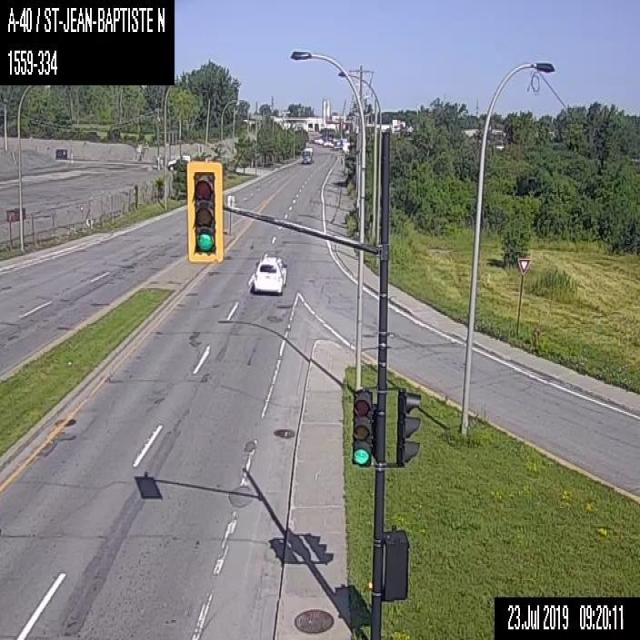bus: (301, 145, 312, 163)
vehicle: (251, 254, 287, 294)
